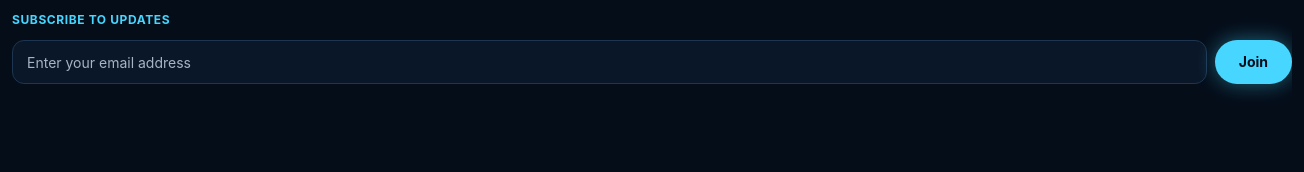
Test case: NewsletterForm › rejects an invalid email with an accessible message and sends nothing
This screenshot has width=1304, height=172.
In the field labelled "email address": (609, 62) [12,40,1207,84], type "nope"
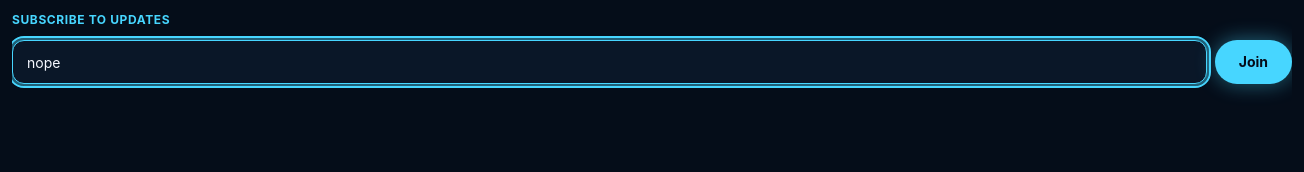
Click the button "Join": (1253, 62) [1215,40,1292,84]
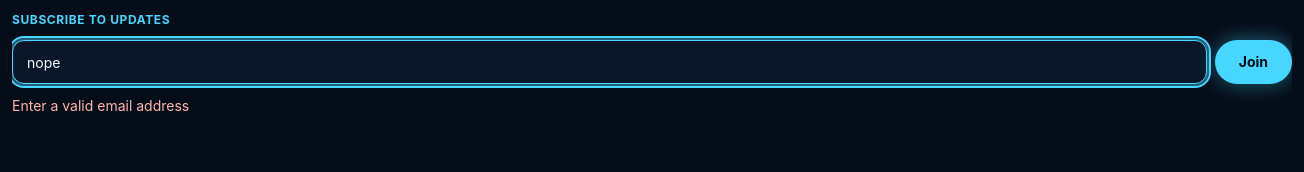
Result: the message "Enter a valid email address" is shown at [12,97,189,114]
